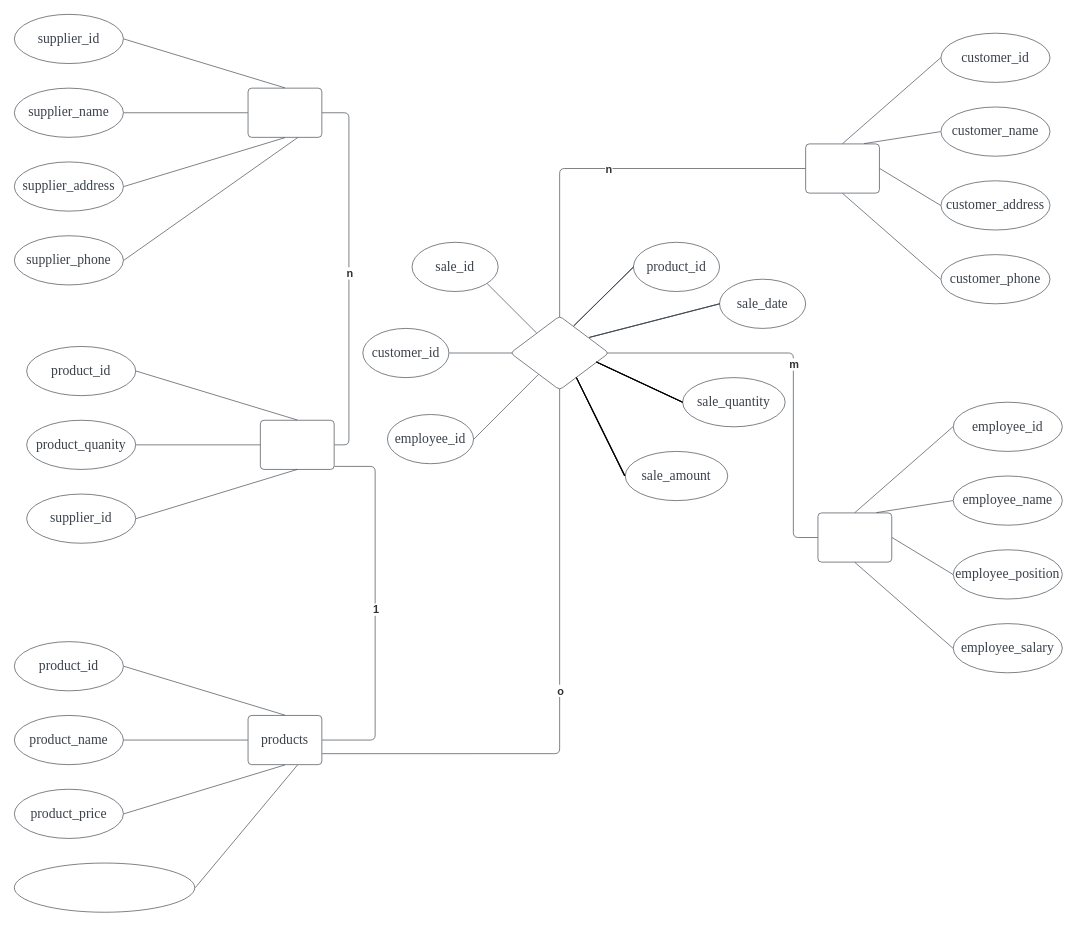
This 1077x927 diagram has some shape labels left out. Each missing label, with the centre of its shape:
customers: the point at 842,168
employees: the point at 854,537
inventory: the point at 297,444
product_description: the point at 104,887
sales: the point at 559,352
suppliers: the point at 284,112
